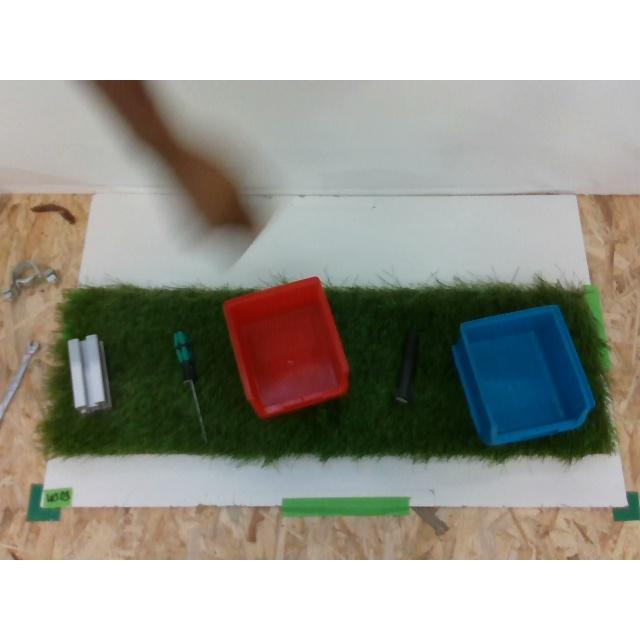Housing: (0, 260, 60, 300)
M20_100: (394, 329, 418, 405)
S40_40_G: (67, 334, 111, 412)
Screwdriver: (172, 328, 208, 444)
Wrench: (1, 342, 40, 422)
container_box_blue: (452, 305, 596, 445)
container_box_red: (224, 276, 348, 418)
